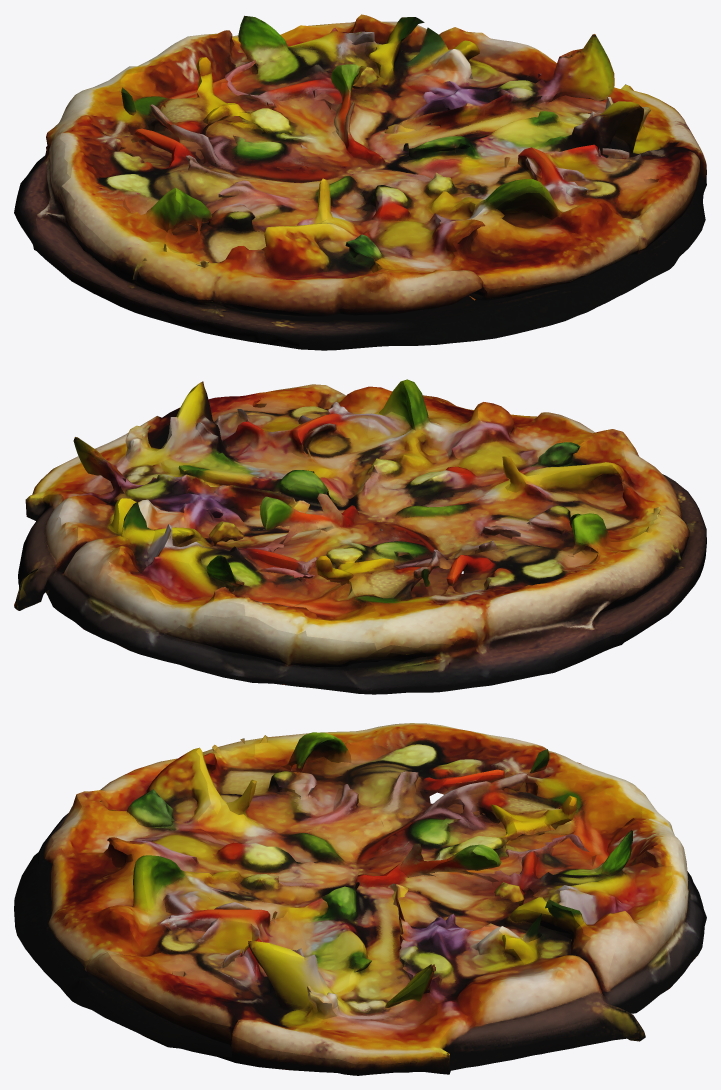
The model's file is item-3d-4d052ae8-6a45-43a1-ac78-ab6089cc94d1.glb.
3 renders of one model, top to bottom at view 1: azimuth 30°, elevation 25°; view 2: azimuth 150°, elevation 25°; view 3: azimuth 270°, elevation 25°, orthographic. The views are drawn at different scales.
Parts seen in each view (by area): view 1: world; view 2: world; view 3: world.
Part boxes in pixels (x1=…): world: x1=14, y1=14, x2=706, y2=350; world: x1=14, y1=379, x2=706, y2=694; world: x1=14, y1=723, x2=706, y2=1075.
Size of the model in its own units: 0.28 by 0.0445 by 0.2623.
Materials: 1 (1 with a texture image).
